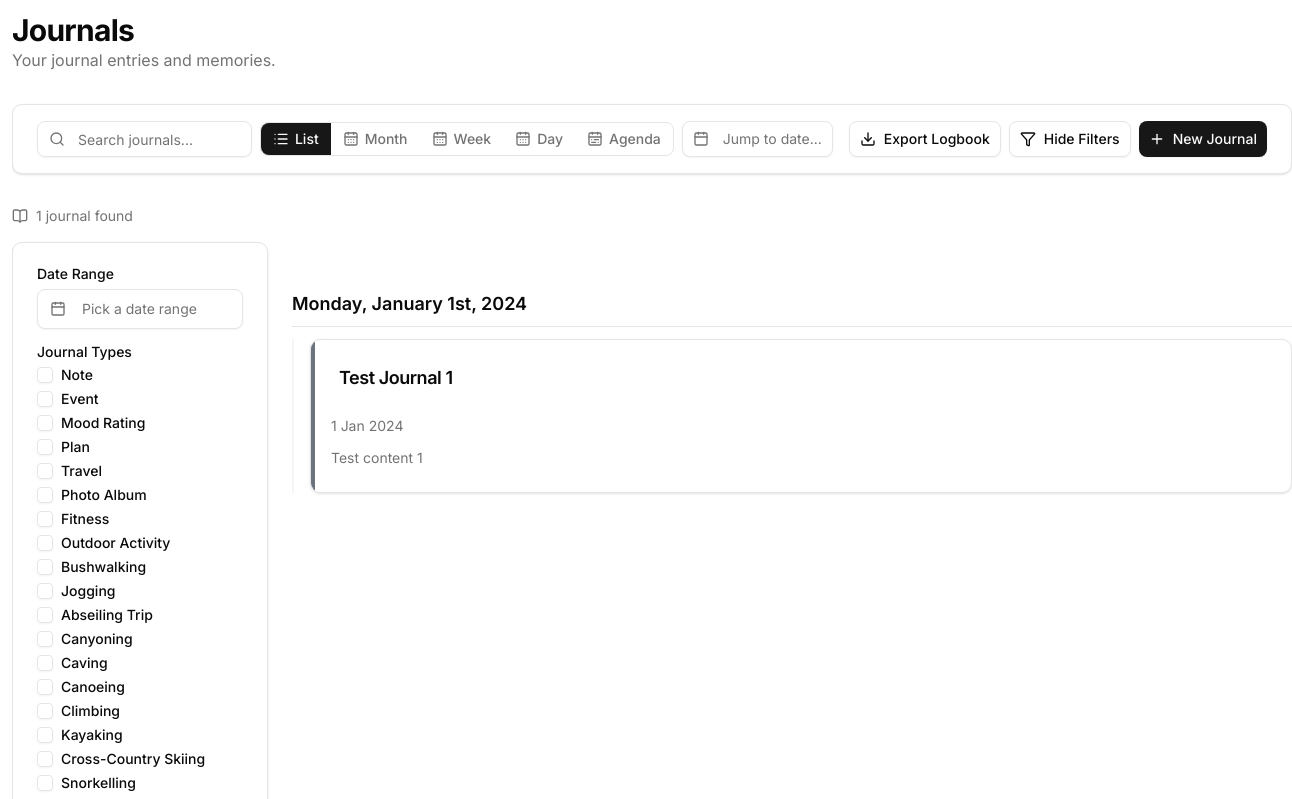
Test: JournalsPage › toggles filter visibility
The image size is (1292, 799).
Click the button "Hide Filters". click: (1070, 139)
box: [1009,121,1131,157]
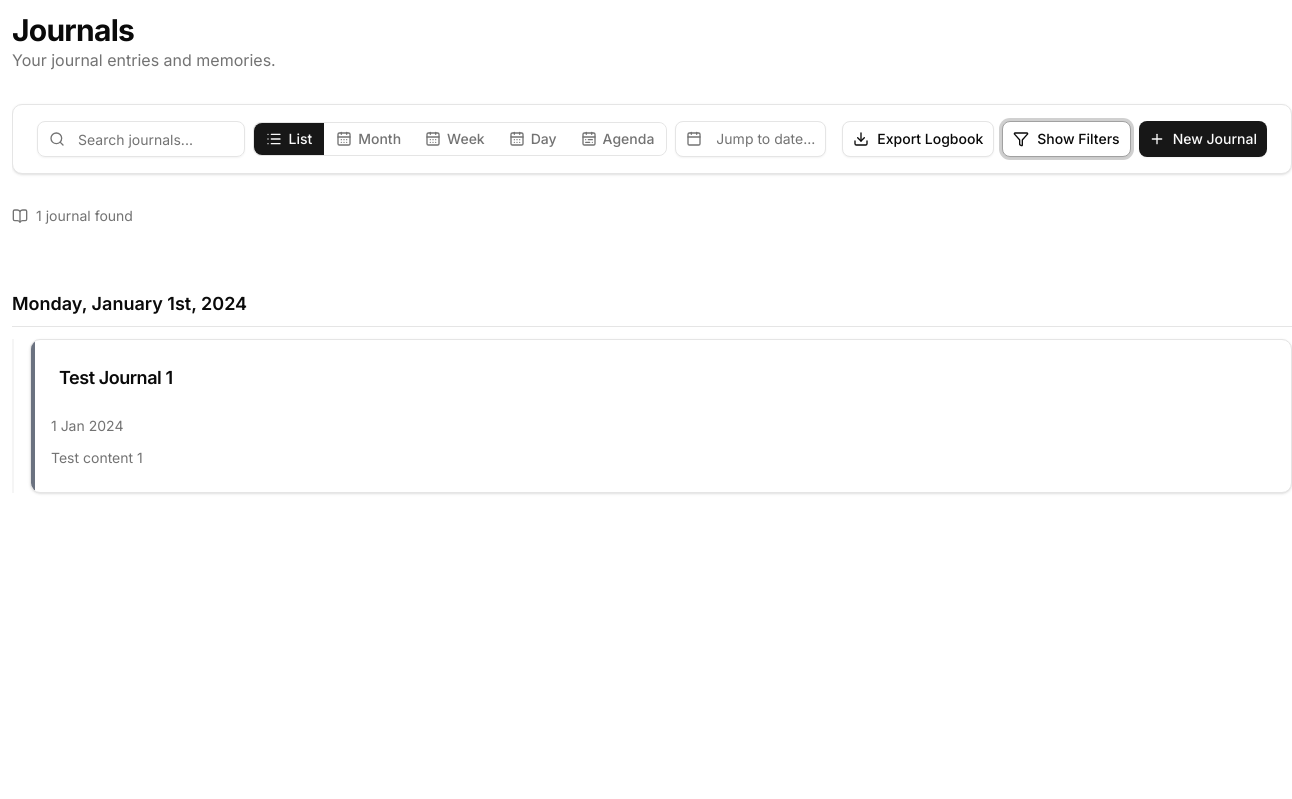
Check: the button "Show Filters" is shown, box [1002,121,1131,157]
